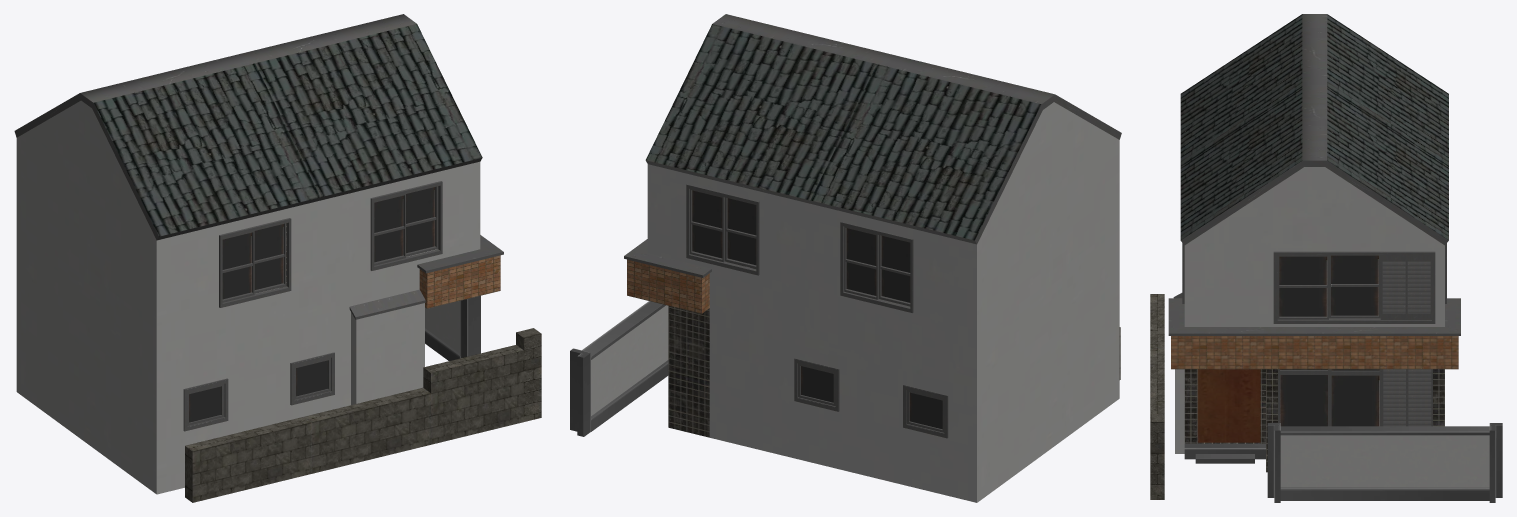
Rendered from oneroom.glb.
3 renders of one model, left to right at view 1: azimuth 30°, elevation 25°; view 2: azimuth 150°, elevation 25°; view 3: azimuth 270°, elevation 25°, orthographic. The views are drawn at different scales.
Visible parts, largest first — view 1: JapaneseResidentialHome_01; view 2: JapaneseResidentialHome_01; view 3: JapaneseResidentialHome_01.
Part boxes in pixels (x1=…): JapaneseResidentialHome_01: x1=14, y1=14, x2=541, y2=502; JapaneseResidentialHome_01: x1=570, y1=14, x2=1121, y2=502; JapaneseResidentialHome_01: x1=1150, y1=14, x2=1502, y2=502.
Size of the model in its own units: 921 by 816 by 812.
1 material, 1 textured.
